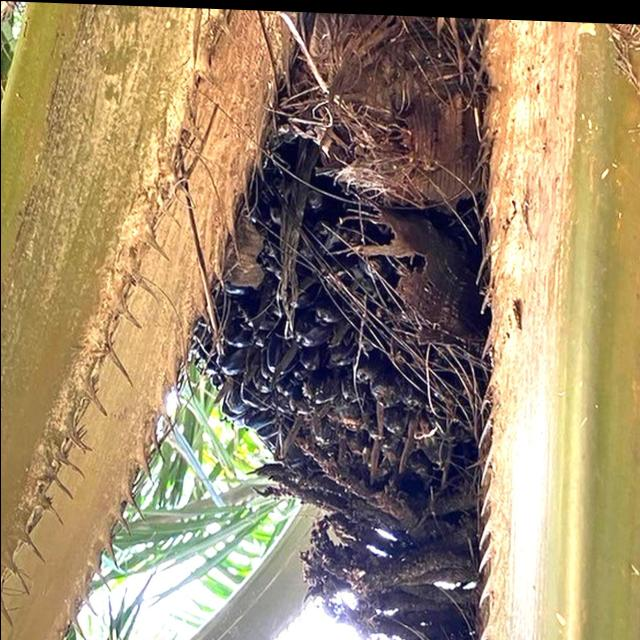unripe: (168, 82, 518, 496)
